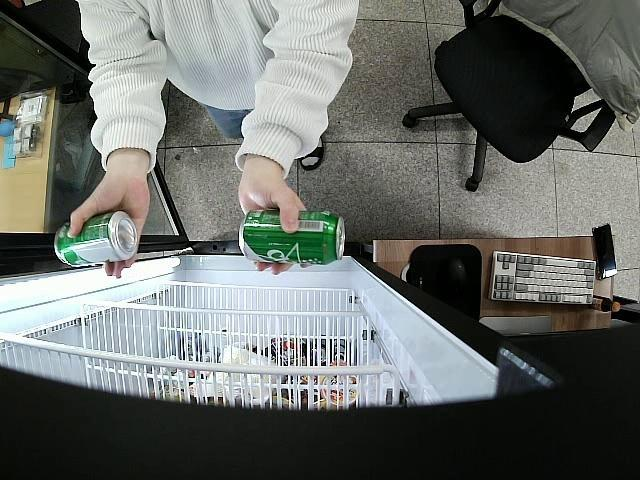12_chilsungCider: (240, 207, 345, 264), (54, 210, 138, 269)
